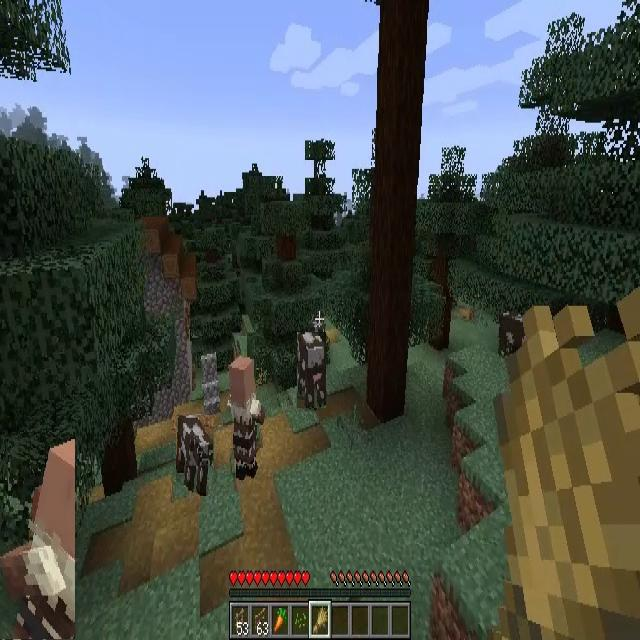cow: (177, 415, 214, 496), (297, 332, 326, 408), (498, 314, 524, 354)
people: (0, 435, 75, 639), (228, 354, 265, 476)
